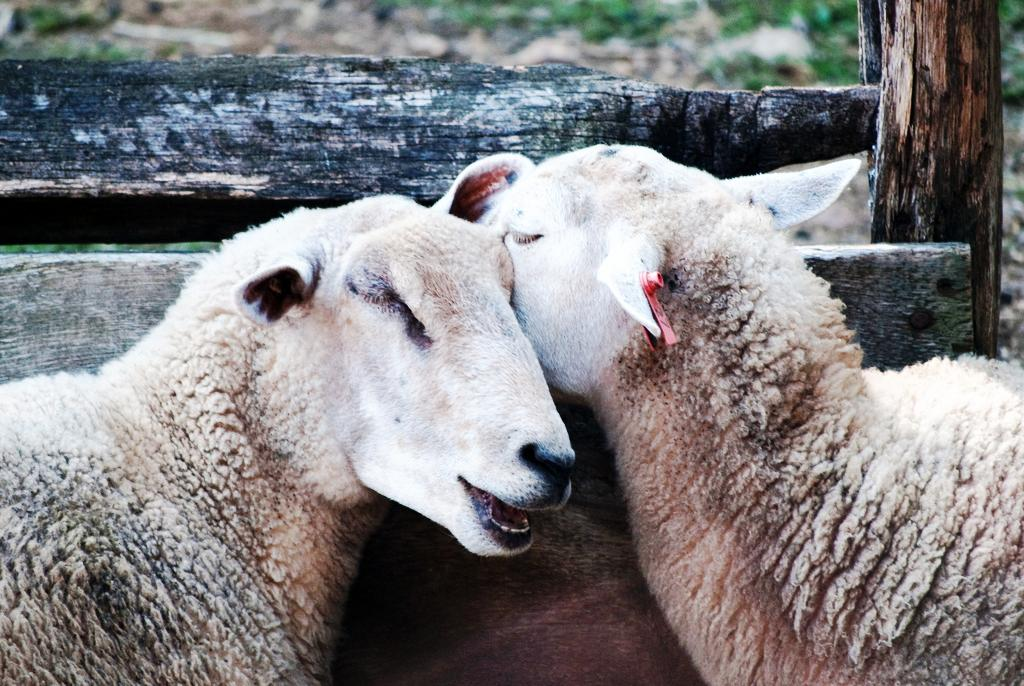Sheep: (24, 164, 676, 682), (466, 138, 1024, 684)
